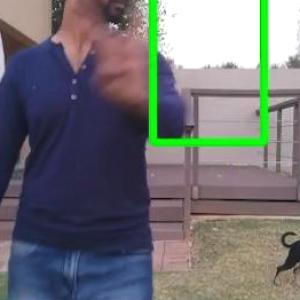takeoff-hand: (87, 12, 156, 109)
